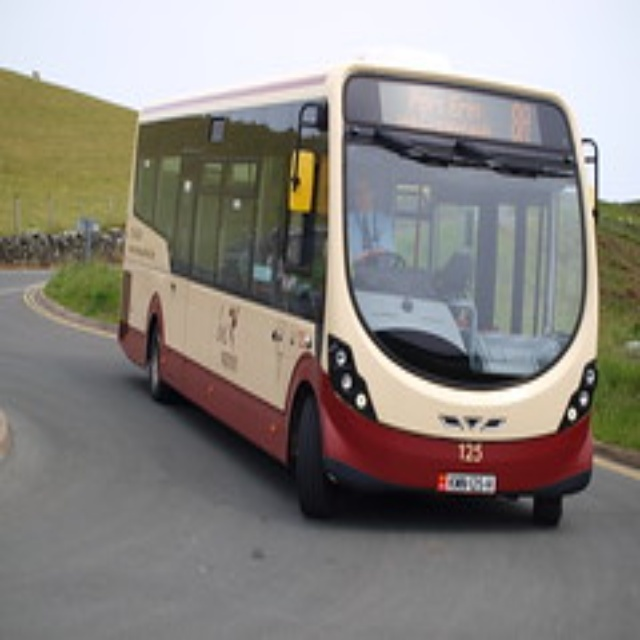Bus: (117, 60, 600, 526)
